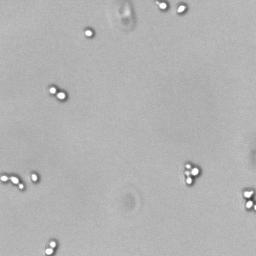budding: (241, 187, 255, 212)
cluster: (182, 160, 201, 187)
individual: (1, 175, 25, 190), (48, 84, 68, 101), (45, 240, 57, 256), (83, 27, 95, 39), (175, 2, 187, 14), (155, 1, 169, 11), (29, 173, 39, 182)
